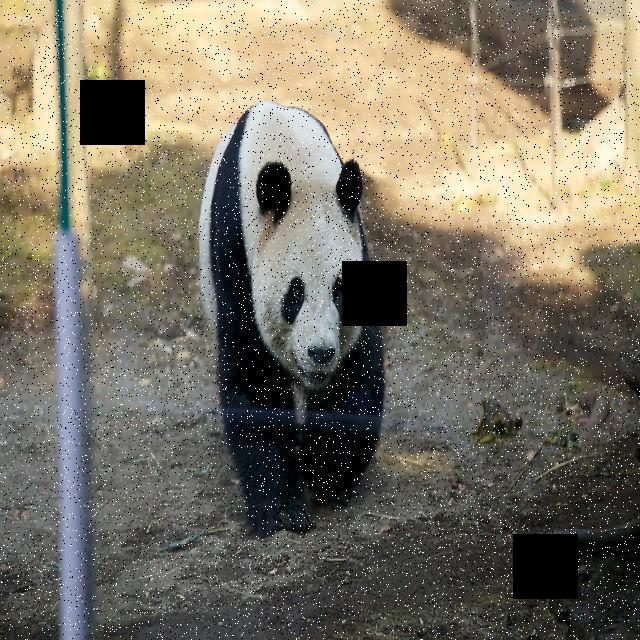Bear: (192, 103, 396, 547)
